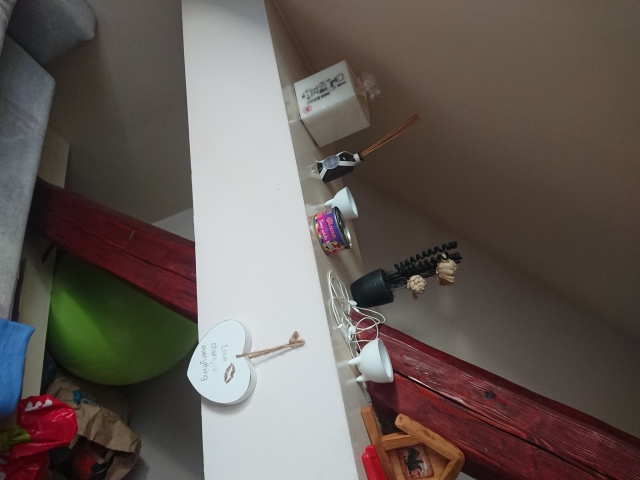Giana Tuna Salad Mexico 185g: (311, 205, 355, 258)
